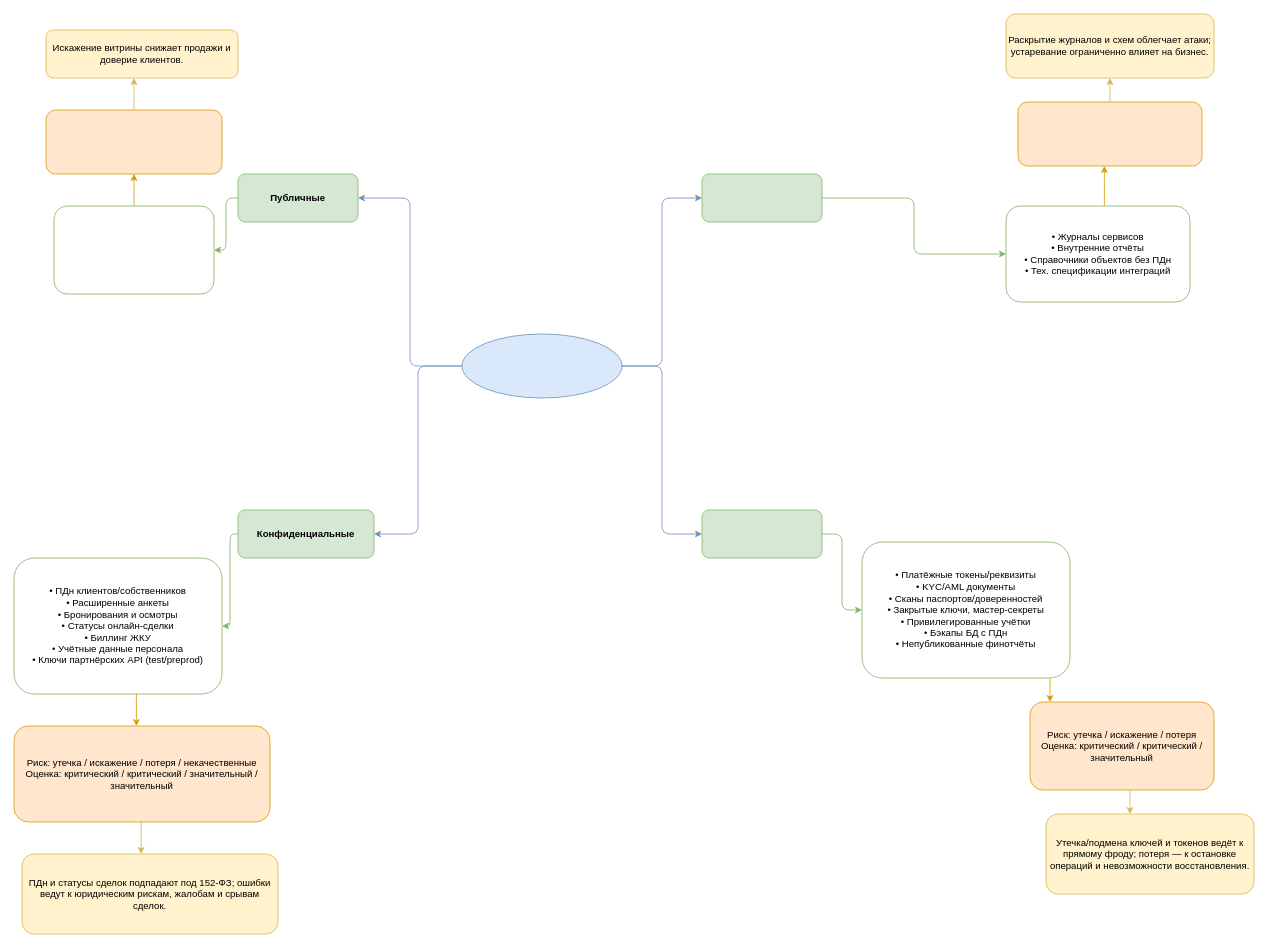
This 1268x948 diagram has some shape labels left out. Each missing label, with the box of its shape:
Безопасность данных: (461, 333, 622, 398)
Внутренние: (701, 173, 822, 222)
Риск: искажение / некачественные данные Оценка: значительный: (45, 109, 222, 174)
Риск: утечка / обесценивание Оценка: значительный / незначительный: (1017, 101, 1202, 166)
Секретные: (701, 509, 822, 558)
• Маркетинговые материалы • Описания ЖК и квартир • Публичные API-описания: (53, 205, 214, 294)
